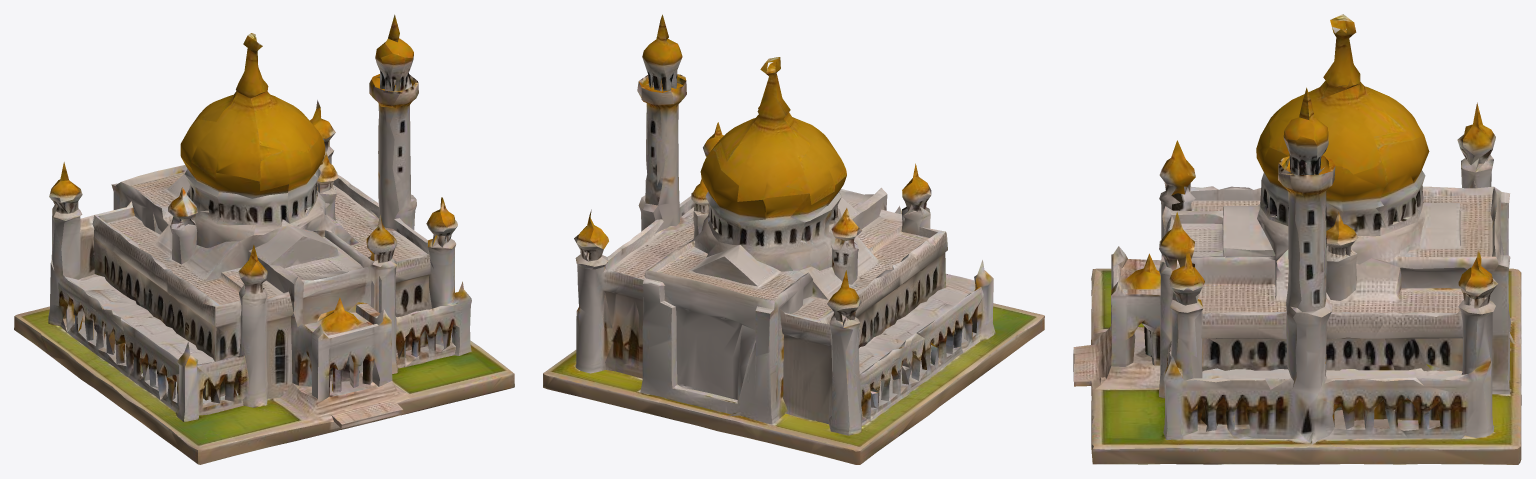
The model's file is omar-ali-saifuddien-mosque.glb.
3 renders of one model, left to right at view 1: azimuth 30°, elevation 25°; view 2: azimuth 150°, elevation 25°; view 3: azimuth 270°, elevation 25°, orthographic. The views are drawn at different scales.
Visible parts, largest first — view 1: logan-textured.obj; view 2: logan-textured.obj; view 3: logan-textured.obj.
Boxes of the visible parts, x1,y1,x2,y2 form: logan-textured.obj: (14,14,514,464); logan-textured.obj: (543,14,1044,464); logan-textured.obj: (1073,14,1521,464).
Size of the model in its own units: 0.9482 by 0.8916 by 1.
Materials: 1 (1 with a texture image).
